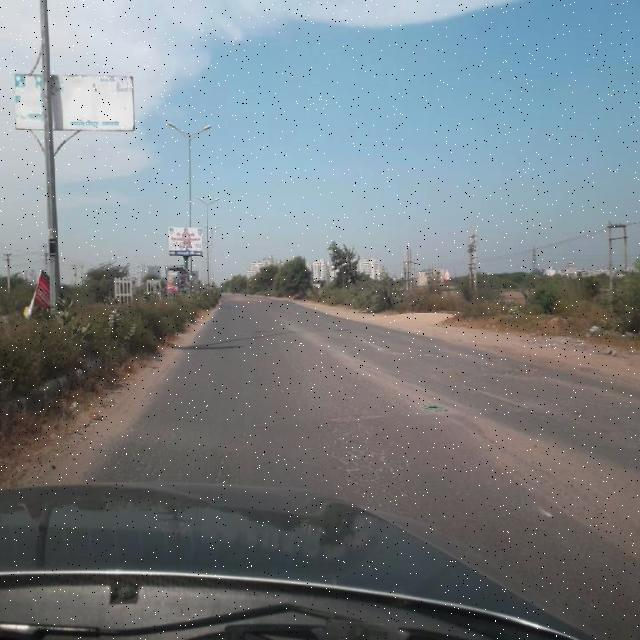D00: (465, 383, 539, 416), (208, 404, 239, 482)
D20: (332, 400, 417, 495), (110, 411, 186, 485)
D40: (497, 358, 544, 382)
